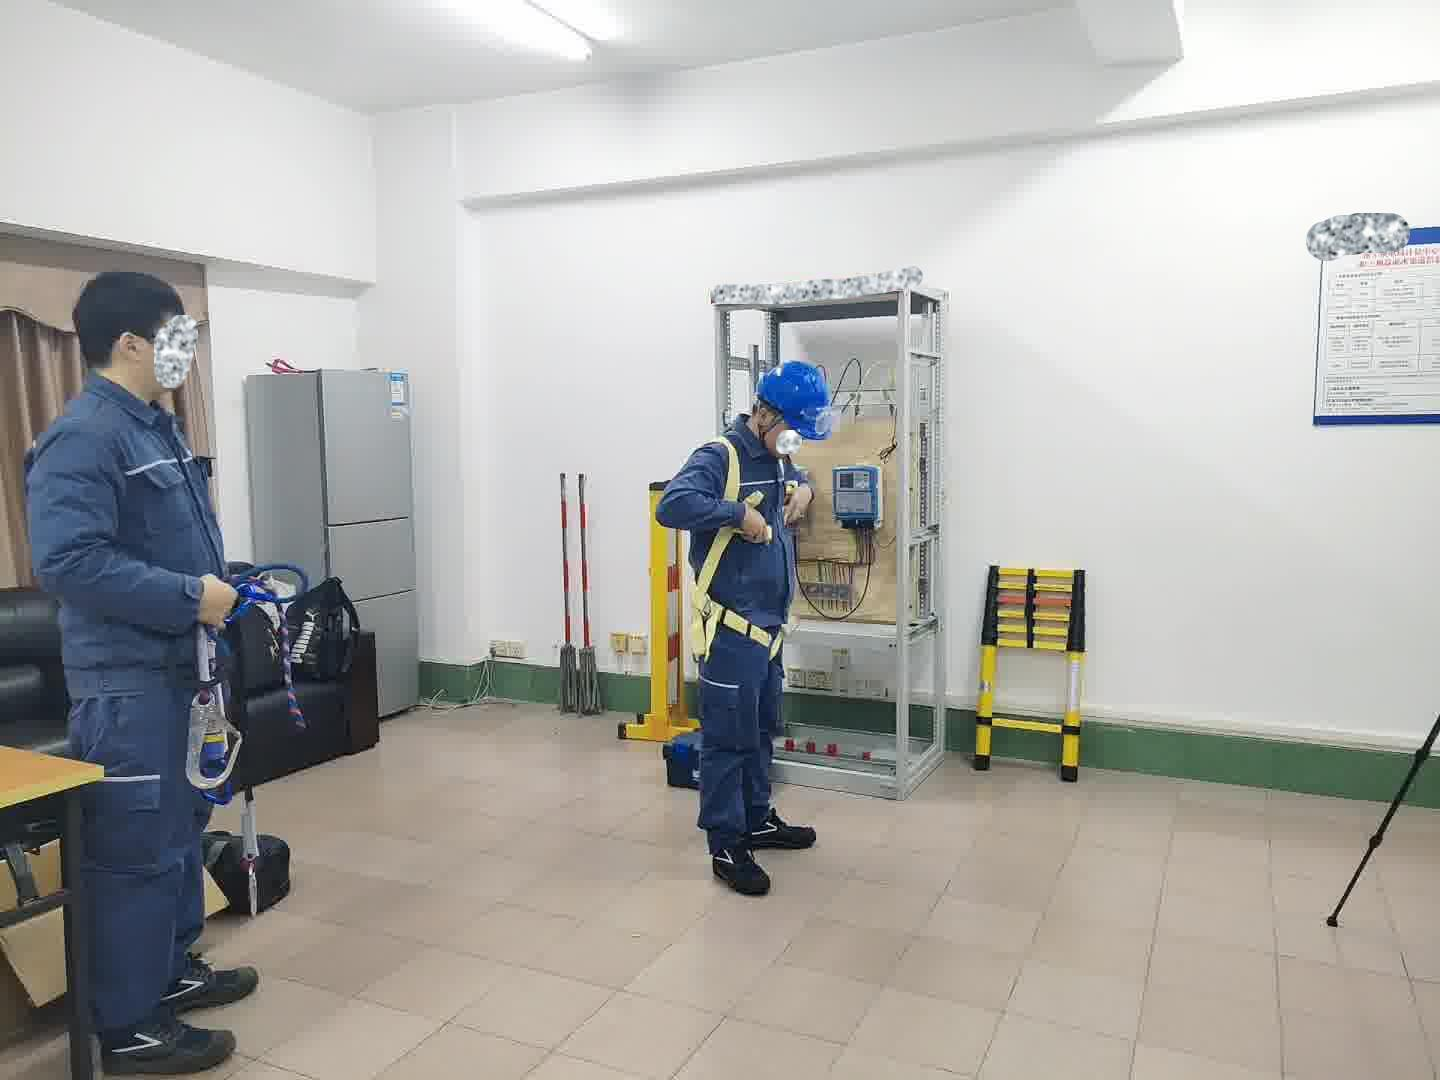halt: (757, 361, 836, 459)
inear: (756, 403, 788, 444)
noear: (107, 330, 161, 383)
unhalt: (73, 270, 201, 402)
